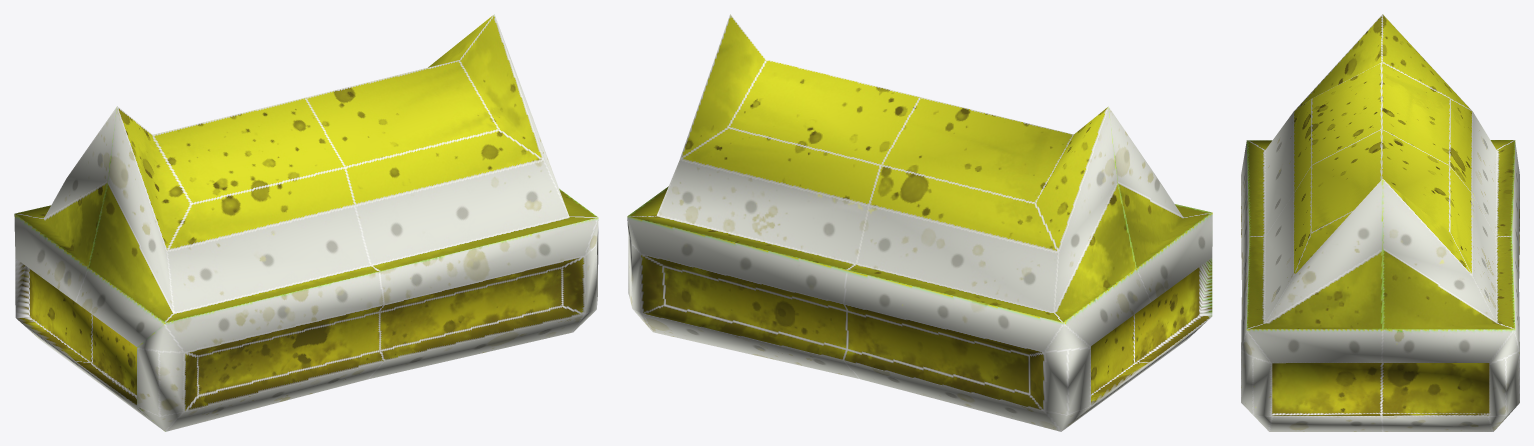
File: Chest_Top.obj
The picture shows the model from 3 angles, left to right: view 1: azimuth 30°, elevation 25°; view 2: azimuth 150°, elevation 25°; view 3: azimuth 270°, elevation 25°; orthographic projection. The views are drawn at different scales.
Visible parts, largest first — view 1: Box002; view 2: Box002; view 3: Box002.
Boxes of the visible parts, x1,y1,x2,y2 form: Box002: (14, 14, 598, 431); Box002: (627, 14, 1212, 431); Box002: (1241, 14, 1519, 431).
Bounding box in the file's own units: 53.31 × 30.43 × 31.17.
